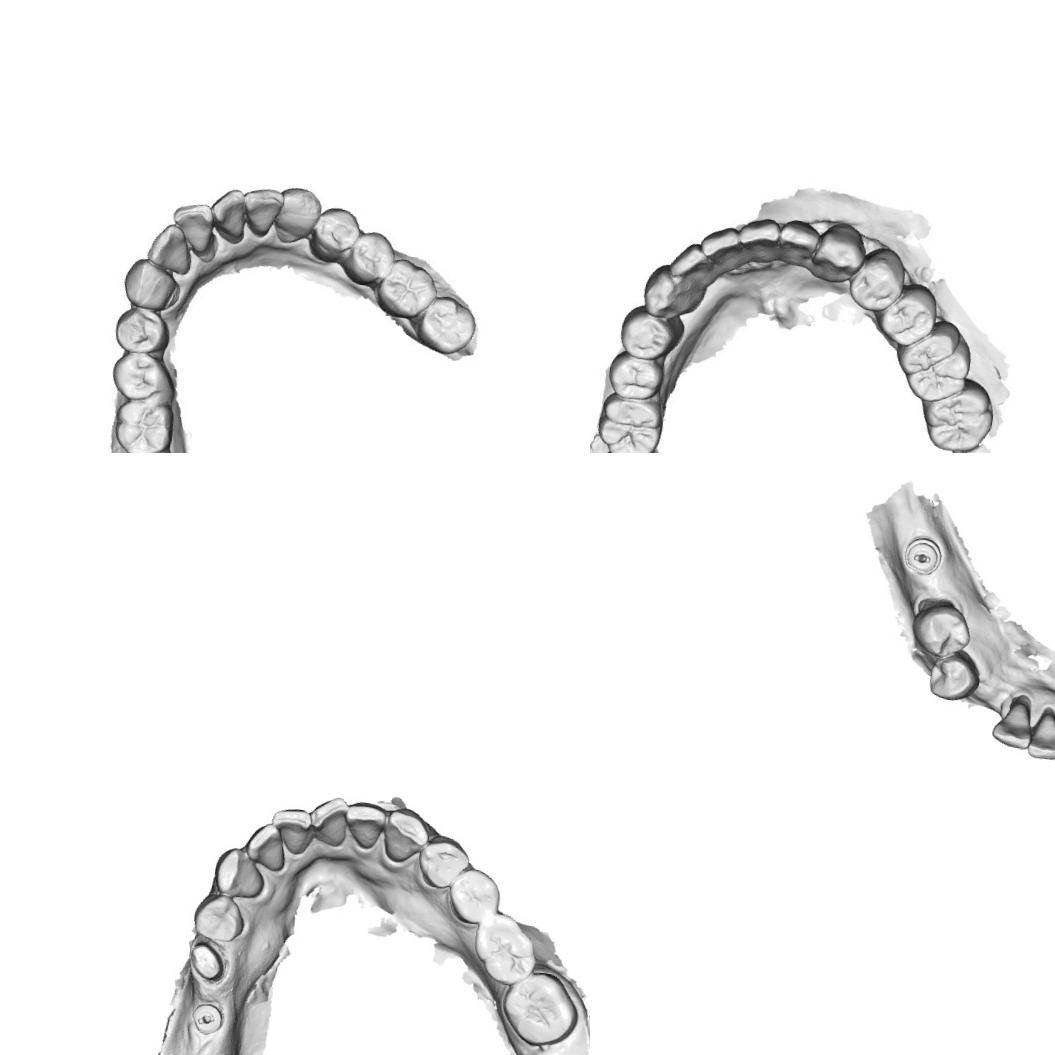canine: (638, 264, 705, 324), (810, 220, 867, 290), (118, 255, 179, 314), (209, 844, 270, 902), (380, 804, 432, 868), (272, 182, 324, 243)
crown: (185, 939, 229, 984)
implant_minus: (896, 526, 956, 586), (188, 1000, 226, 1038)
incisor: (166, 198, 220, 260), (988, 689, 1038, 752), (144, 220, 196, 276), (774, 216, 824, 274), (206, 184, 253, 243), (243, 818, 292, 873), (304, 792, 352, 848), (266, 804, 315, 858), (341, 799, 389, 852), (665, 240, 720, 285), (238, 184, 285, 236), (700, 222, 744, 269), (738, 216, 780, 264), (1023, 704, 1055, 763)
molar: (890, 318, 978, 408), (494, 966, 584, 1053), (467, 908, 544, 990), (918, 376, 999, 453), (374, 254, 442, 324), (593, 393, 668, 453), (415, 292, 481, 358), (109, 395, 179, 453)
premolar: (875, 279, 941, 351), (906, 596, 976, 663), (443, 864, 506, 929), (617, 304, 686, 363), (107, 348, 174, 407), (846, 251, 906, 314), (413, 832, 474, 893), (604, 350, 672, 404), (306, 201, 364, 260), (926, 648, 983, 706), (110, 304, 169, 358), (189, 891, 248, 945), (344, 226, 398, 284)
